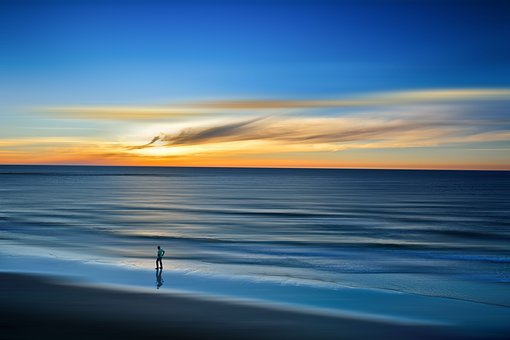beach: (3, 163, 509, 338)
sky: (1, 1, 508, 170)
